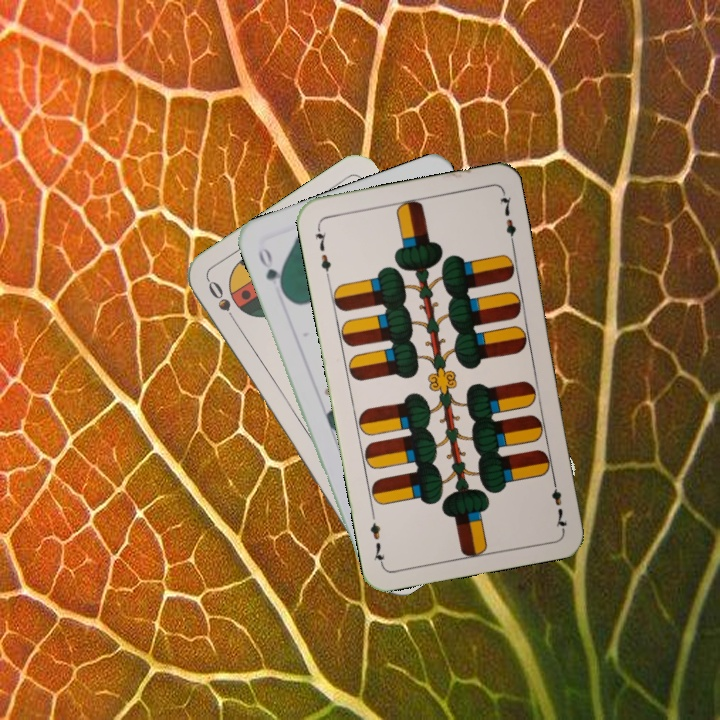E7: (310, 222, 334, 281), (547, 473, 570, 532)
GO: (254, 242, 288, 297)
SO: (203, 276, 242, 329)
